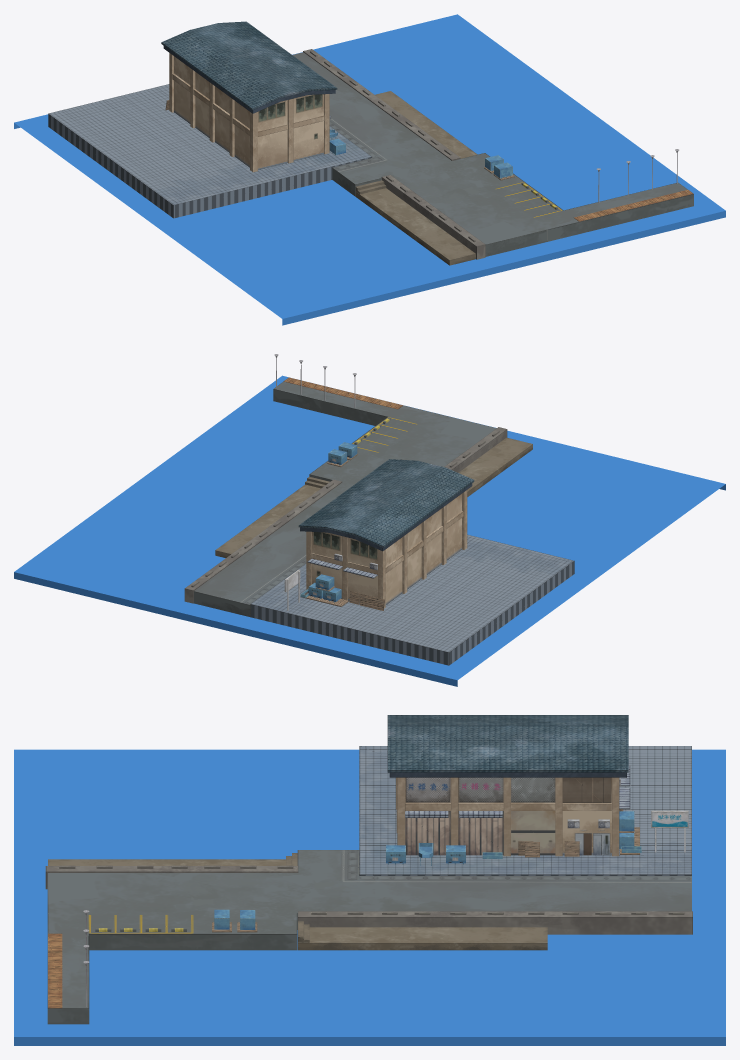
The model's file is port01.fbx.
3 views of the same model, one above another, from view 1: azimuth 30°, elevation 25°; view 2: azimuth 150°, elevation 25°; view 3: azimuth 270°, elevation 25° (orthographic). The views are drawn at different scales.
Visible parts, largest first — view 1: Cube.002, Cube, Cube.003, Cube.011, Cube.001, Cube.079, Cube.010, Cube.007, Cube.061, Cube.056, Cube.009, Cube.020; view 2: Cube.002, Cube.003, Cube, Cube.011, Cube.001, Cube.079, Cube.007, Cube.061, Cube.010, Cube.056, Cube.009, Cube.020; view 3: Cube.002, Cube, Cube.003, Cube.011, Cube.001, Cube.061, Cube.007, Cube.079, Cube.010, Cube.019, Cube.009, Cube.056 (+6 smaller).
Boxes of the visible parts, box(x1,y1,x2,y2) form: Cube.002: box(14, 14, 725, 325); Cube: box(292, 52, 693, 256); Cube.003: box(48, 84, 372, 218); Cube.011: box(161, 21, 337, 110); Cube.001: box(174, 56, 323, 169); Cube.079: box(355, 188, 475, 265); Cube.010: box(381, 175, 485, 259); Cube.007: box(375, 91, 477, 158); Cube.061: box(303, 49, 460, 160); Cube.056: box(574, 190, 693, 221); Cube.009: box(163, 46, 335, 113); Cube.020: box(172, 73, 249, 135); Cube.002: box(14, 375, 725, 686); Cube.003: box(250, 534, 574, 665); Cube: box(194, 381, 496, 616); Cube.011: box(298, 459, 474, 547); Cube.001: box(311, 494, 461, 604); Cube.079: box(458, 437, 532, 496); Cube.007: box(215, 484, 320, 557); Cube.061: box(184, 479, 342, 603); Cube.010: box(444, 427, 507, 472); Cube.056: box(283, 377, 402, 409); Cube.009: box(300, 483, 472, 551); Cube.020: box(385, 511, 463, 573); Cube.002: box(14, 749, 725, 1045); Cube: box(47, 850, 691, 1024); Cube.003: box(359, 746, 691, 875); Cube.011: box(387, 715, 628, 772); Cube.001: box(405, 777, 611, 855); Cube.061: box(298, 911, 692, 934); Cube.007: box(298, 927, 547, 950); Cube.079: box(48, 859, 285, 865); Cube.010: box(45, 866, 298, 889); Cube.019: box(405, 803, 611, 810); Cube.009: box(389, 772, 626, 777); Cube.056: box(48, 933, 62, 1008).
Bounding box in the file's own units: 2925 × 581 × 3063.
